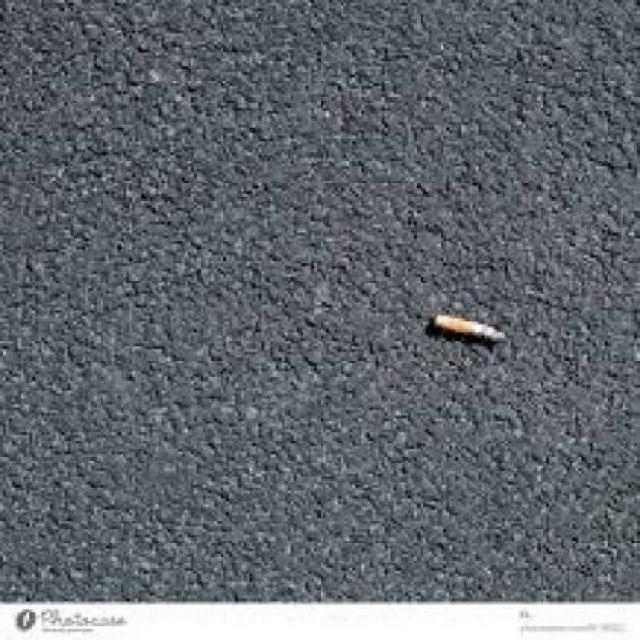cigarette: (420, 313, 531, 365)
